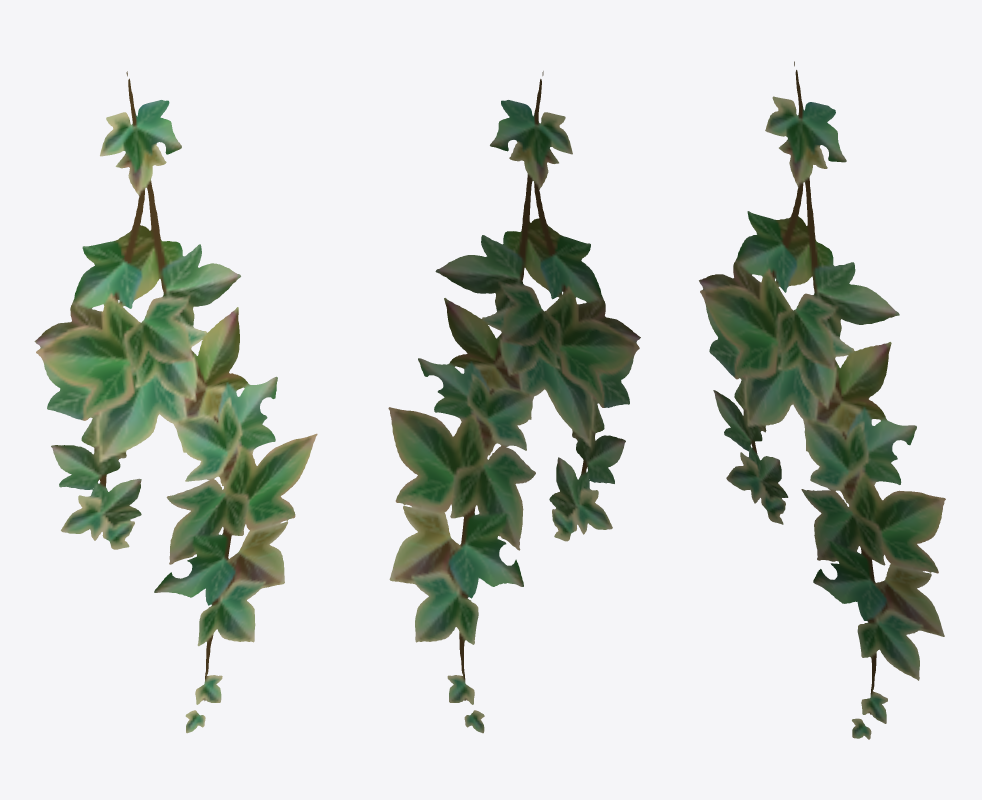
File: lierres_gr_4.fbx
The picture shows the model from 3 angles, left to right: view 1: azimuth 30°, elevation 25°; view 2: azimuth 150°, elevation 25°; view 3: azimuth 330°, elevation 25°; orthographic projection. The views are drawn at different scales.
Visible parts, largest first — view 1: Lierres; view 2: Lierres; view 3: Lierres.
Part boxes in pixels (x1=…): Lierres: x1=34, y1=71, x2=317, y2=733; Lierres: x1=388, y1=71, x2=640, y2=733; Lierres: x1=699, y1=61, x2=945, y2=739.
Bounding box in the file's own units: 41.67 × 101 × 5.91.
